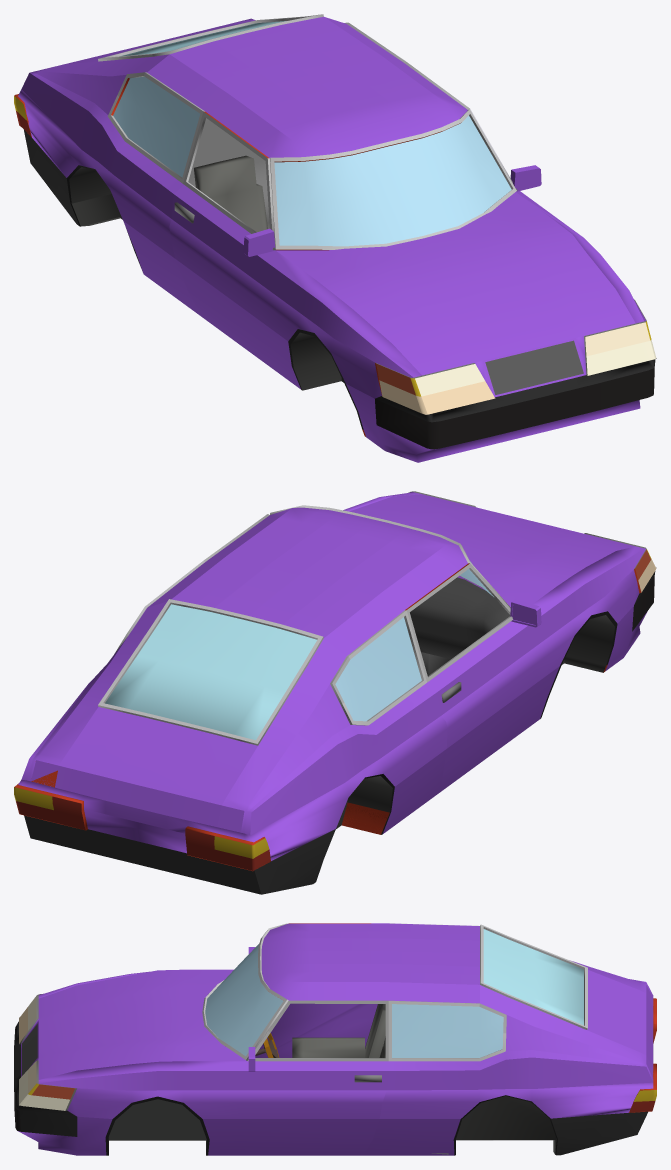
The model's file is Turbo_Purple.fbx.
The picture shows the model from 3 angles, top to bottom: view 1: azimuth 30°, elevation 25°; view 2: azimuth 150°, elevation 25°; view 3: azimuth 270°, elevation 25°; orthographic projection. The views are drawn at different scales.
Visible parts, largest first — view 1: Chassi, Hood, Glass, Door_R, Seats, Trunk, Door_L, TrunkGlass; view 2: Chassi, Trunk, TrunkGlass, Door_R, Hood, Glass; view 3: Chassi, Hood, Door_L, Glass, TrunkGlass, Trunk, Door_R, Seats.
Part boxes in pixels (bbox=[...]): Chassi: bbox=[14, 16, 656, 462]; Hood: bbox=[276, 192, 635, 375]; Glass: bbox=[113, 76, 511, 246]; Door_R: bbox=[169, 111, 278, 372]; Seats: bbox=[194, 155, 267, 232]; Trunk: bbox=[63, 14, 323, 64]; Door_L: bbox=[405, 62, 541, 195]; TrunkGlass: bbox=[120, 21, 286, 56]; Chassi: bbox=[14, 491, 656, 894]; Trunk: bbox=[55, 599, 323, 826]; TrunkGlass: bbox=[105, 604, 316, 740]; Door_R: bbox=[405, 563, 541, 791]; Hood: bbox=[349, 494, 634, 607]; Glass: bbox=[335, 560, 493, 721]; Chassi: bbox=[14, 923, 656, 1155]; Hood: bbox=[38, 969, 246, 1079]; Door_L: bbox=[242, 1000, 388, 1155]; Glass: bbox=[205, 944, 503, 1057]; TrunkGlass: bbox=[483, 929, 583, 1025]; Trunk: bbox=[480, 924, 652, 1068]; Door_R: bbox=[248, 923, 377, 1057]; Seats: bbox=[292, 1004, 385, 1057].
Bounding box in the file's own units: 2.14 × 1.42 × 5.18.
